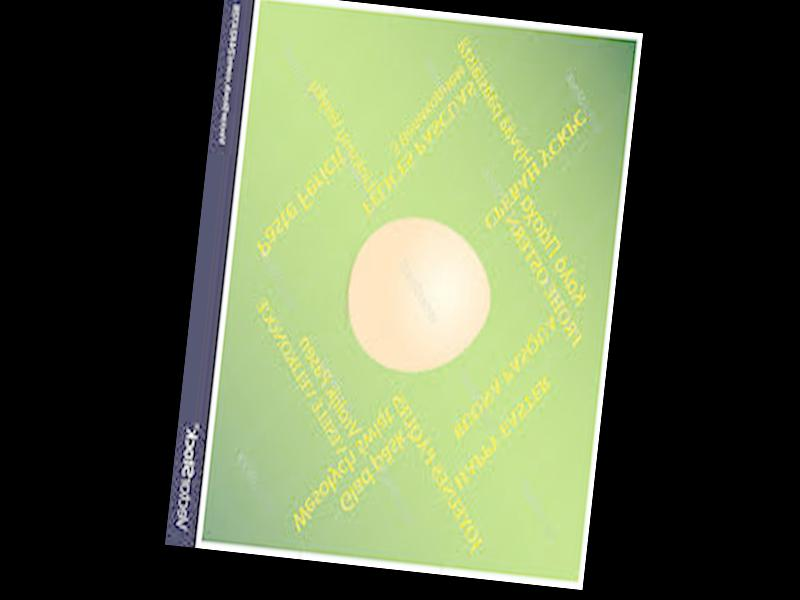Eggs: (342, 210, 494, 377)
